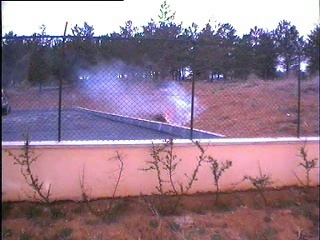smoke: (75, 51, 192, 127)
